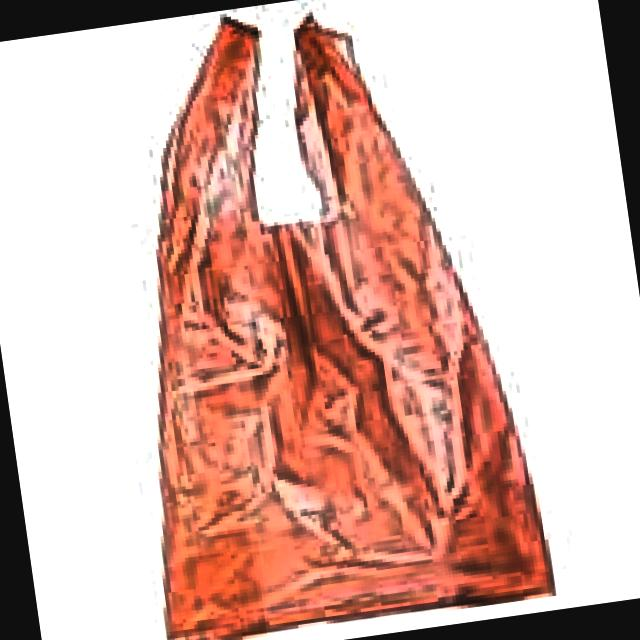plastic bag: (163, 19, 546, 637)
